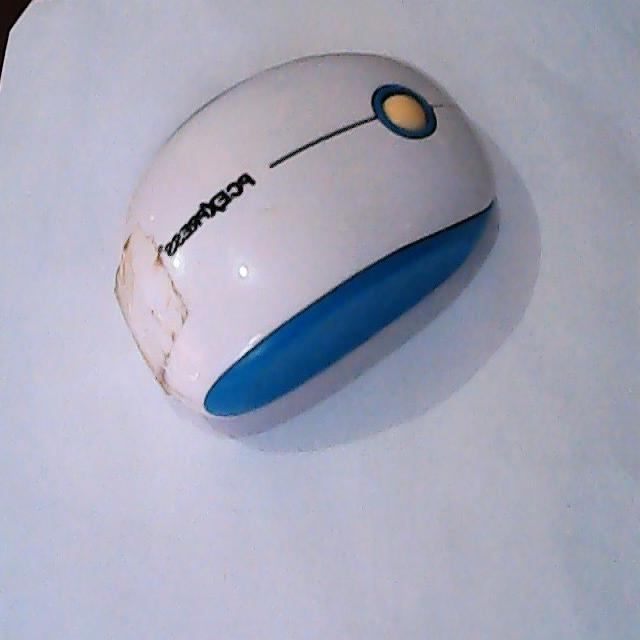mouse: (62, 49, 518, 447)
